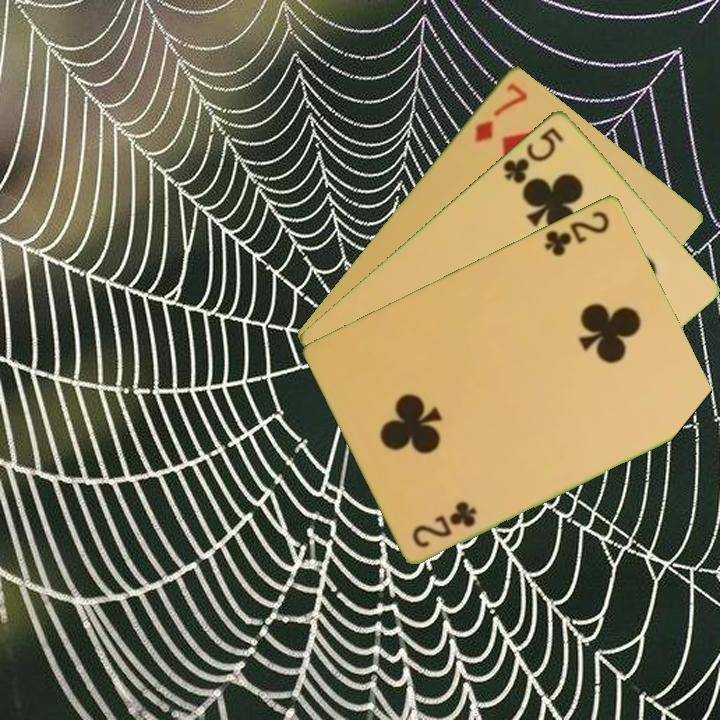2c: (408, 498, 481, 550), (541, 207, 613, 259)
5c: (499, 123, 567, 186)
7d: (471, 78, 531, 145)
